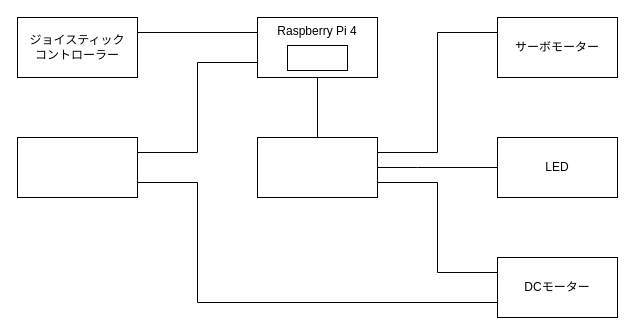
Some shapes in this 635 by 335 pixel diagram are drawn without their labels. The centre of each missing label's shape, as x and y in pixels:
Arduino: the point at 317,167
ROS: the point at 317,57
バッテリー: the point at 77,167
